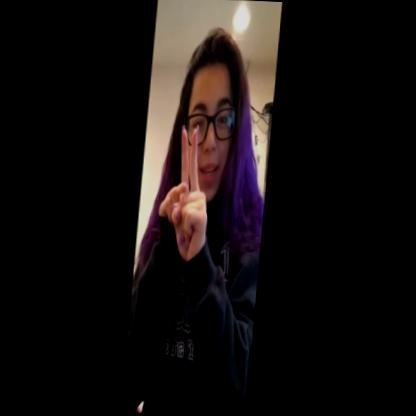NiceToMeetYou: (155, 116, 225, 264)
